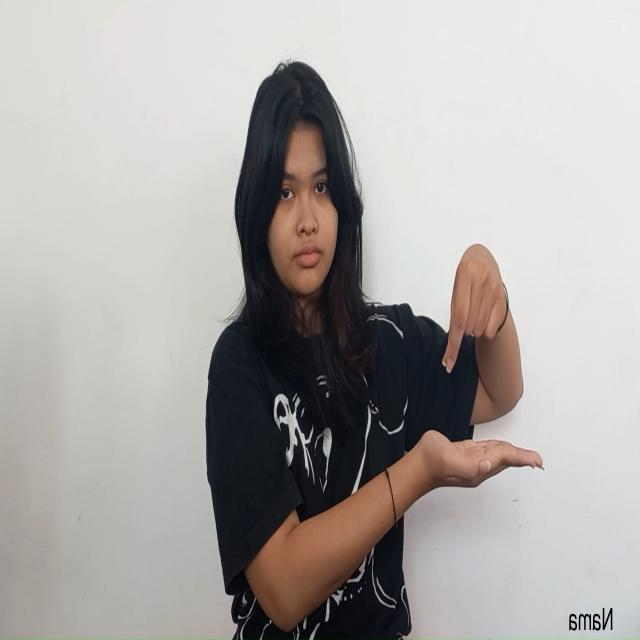Nama -BISINDO-: (420, 241, 545, 492)
